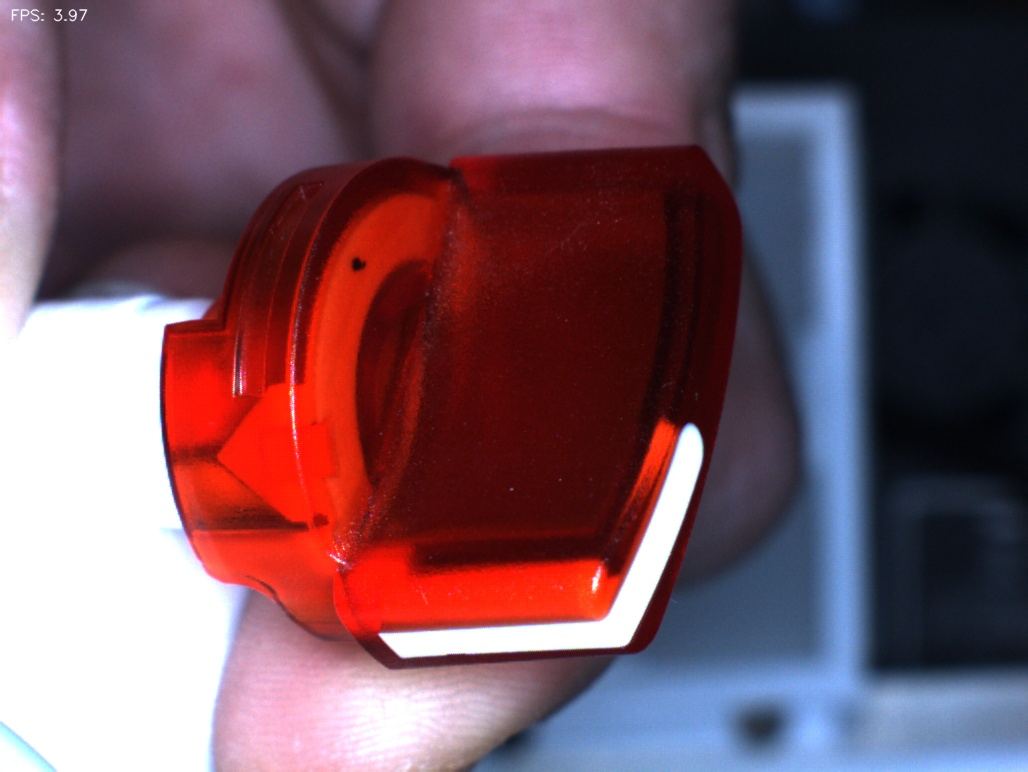PointNoir: (314, 226, 400, 303)
